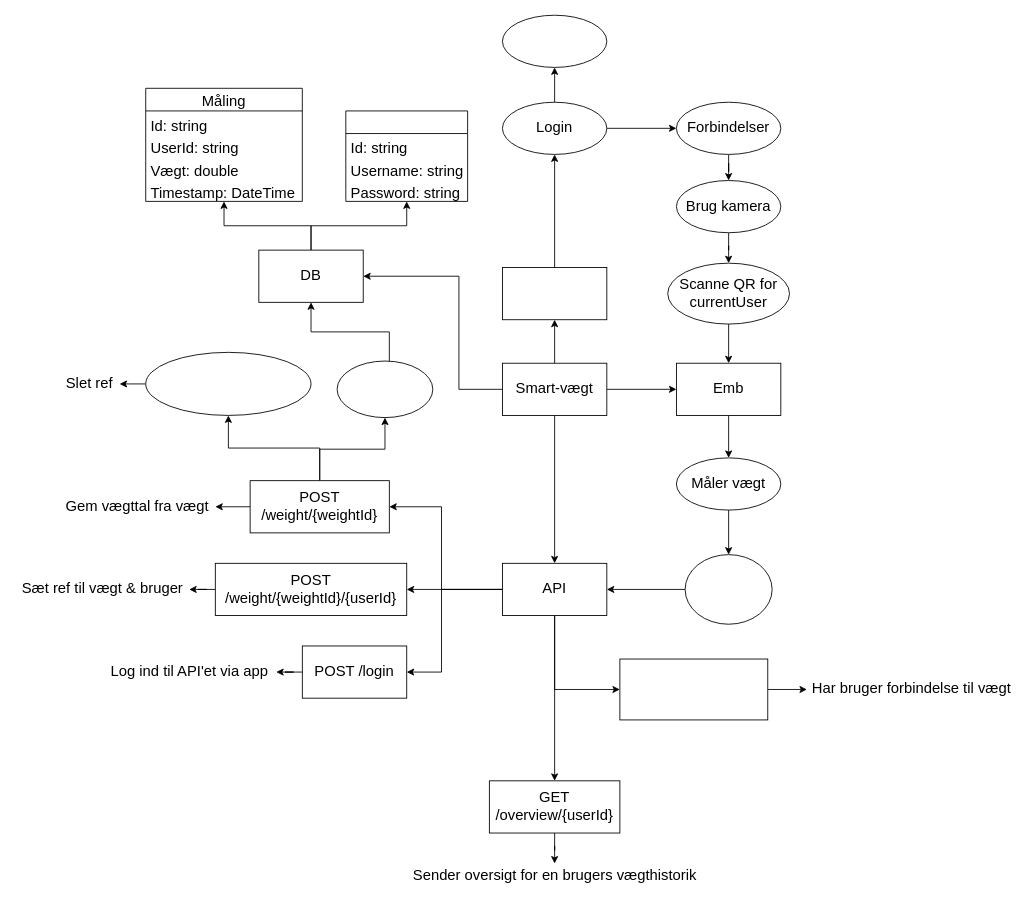
This 1030x905 diagram has some shape labels left out. Here are the shapes that lost their labels. From the top down, the box of each, then its label:
(502, 14, 607, 67): Oversigt
(345, 110, 468, 201): Bruger
(502, 267, 607, 320): App
(145, 351, 311, 415): Hvis !ref || !vægttal indenfor 10 minutter
(336, 360, 433, 418): Hvis ref && vægttal
(684, 554, 772, 624): Sender målinger til API
(619, 658, 768, 720): GET /connection/{userId}
